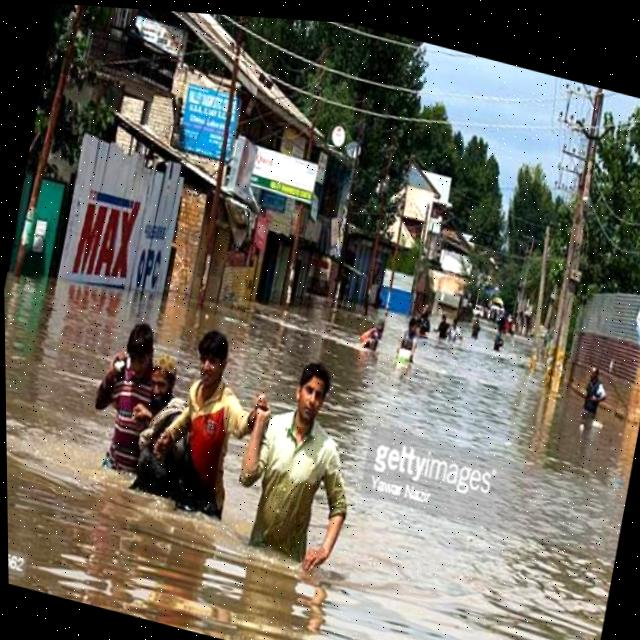civilian: (216, 336, 385, 590), (146, 304, 268, 526), (61, 284, 178, 490), (112, 349, 208, 513), (563, 353, 621, 438), (351, 298, 401, 364), (384, 309, 431, 379), (429, 308, 456, 351), (464, 310, 490, 353), (441, 312, 468, 352), (416, 298, 439, 343), (489, 317, 512, 359)
